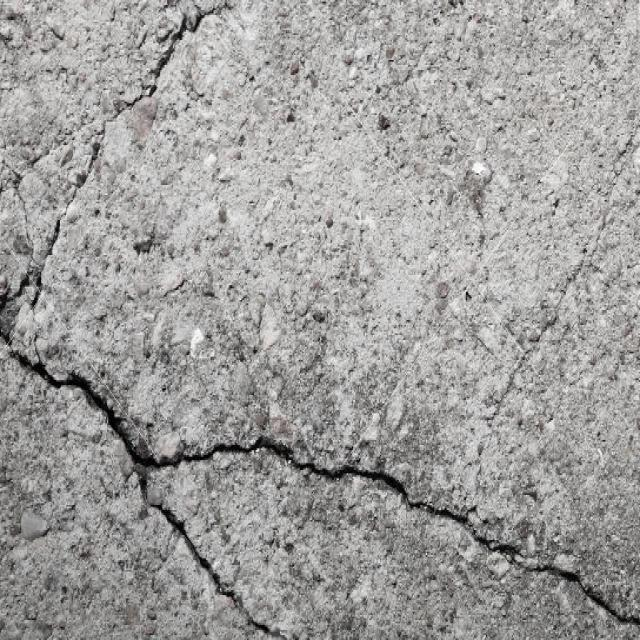crack: (209, 423, 639, 634), (2, 2, 235, 314), (486, 123, 637, 424), (1, 316, 210, 508), (158, 509, 286, 638)
